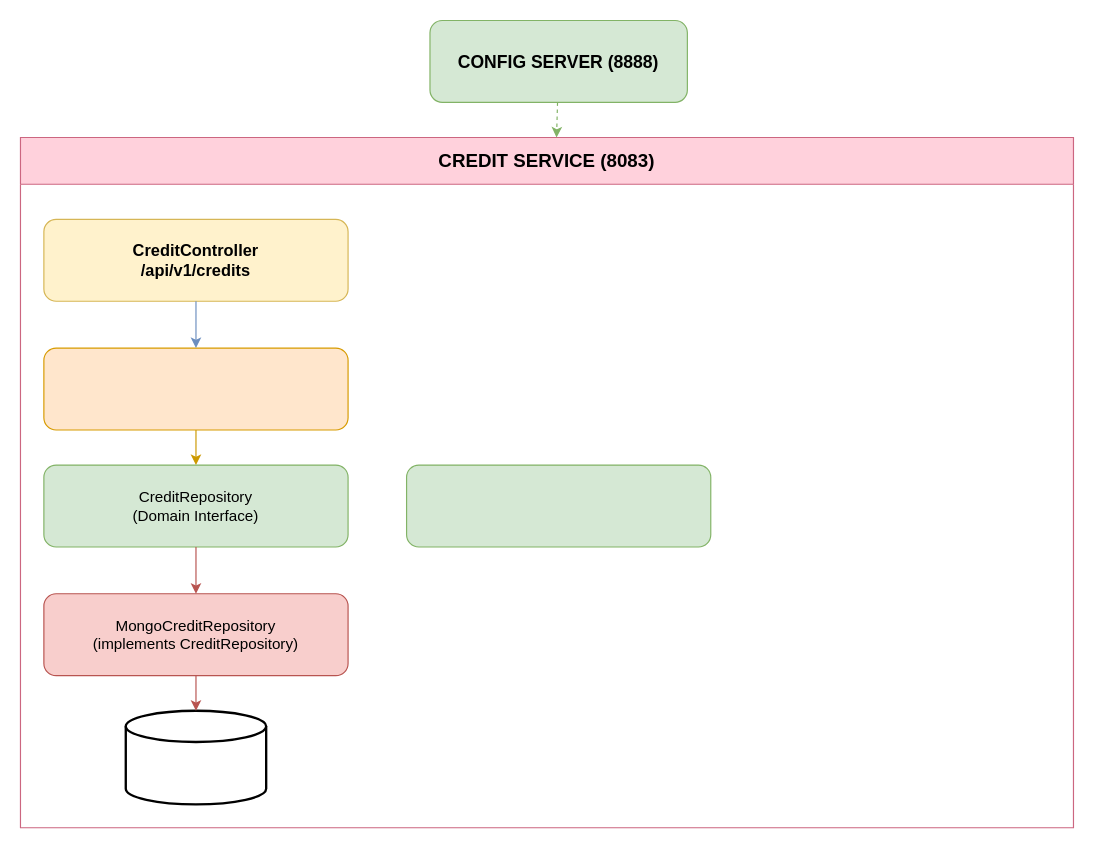
Image size: 1094x848. Some labels were removed from this diagram. The shapes that lost their labels are listed below. From the top down, each one's centre as x and y in pixels, then its label:
At point 195,388: "CreditApplicationService (business logic)".
At point 558,505: "Credit Model (Personal / Business / Card)".
At point 195,757: "MongoDB credits collection".
